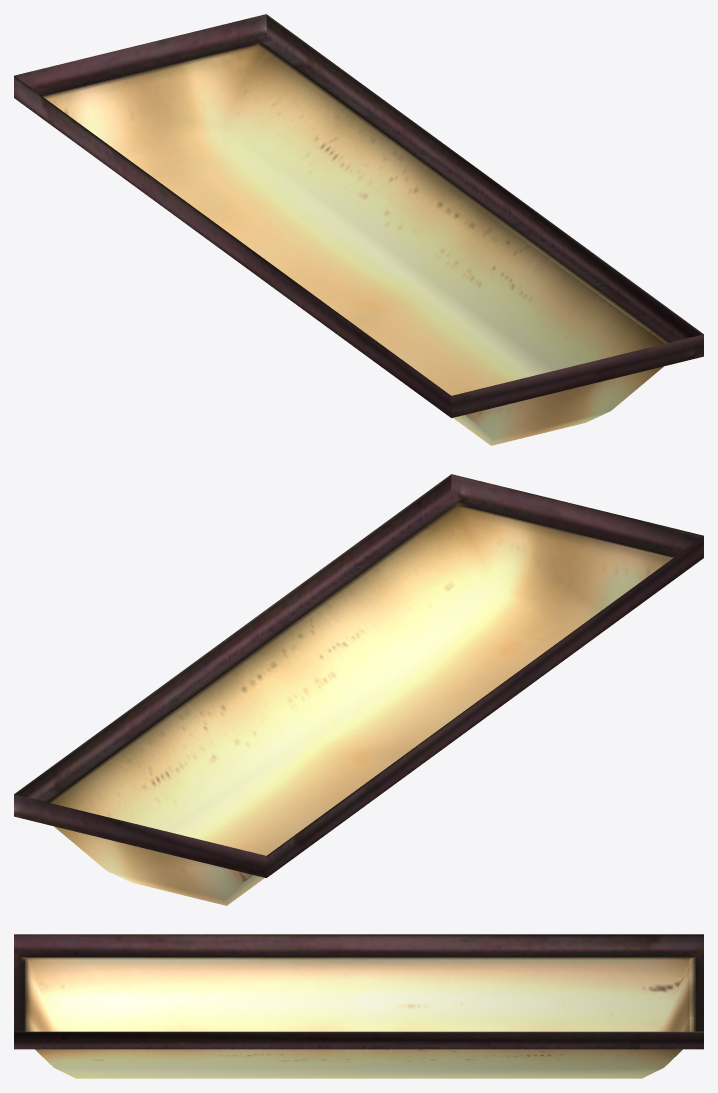
Rendered from TubeLightB.fbx.
3 renders of one model, top to bottom at view 1: azimuth 30°, elevation 25°; view 2: azimuth 150°, elevation 25°; view 3: azimuth 270°, elevation 25°, orthographic. The views are drawn at different scales.
Visible parts, largest first — view 1: TubeLightB; view 2: TubeLightB; view 3: TubeLightB.
Boxes of the visible parts, box(x1,y1,x2,y2) form: TubeLightB: box(14, 14, 703, 445); TubeLightB: box(14, 474, 703, 905); TubeLightB: box(14, 934, 703, 1078).
Bounding box in the file's own units: 60.96 × 22.59 × 183.
